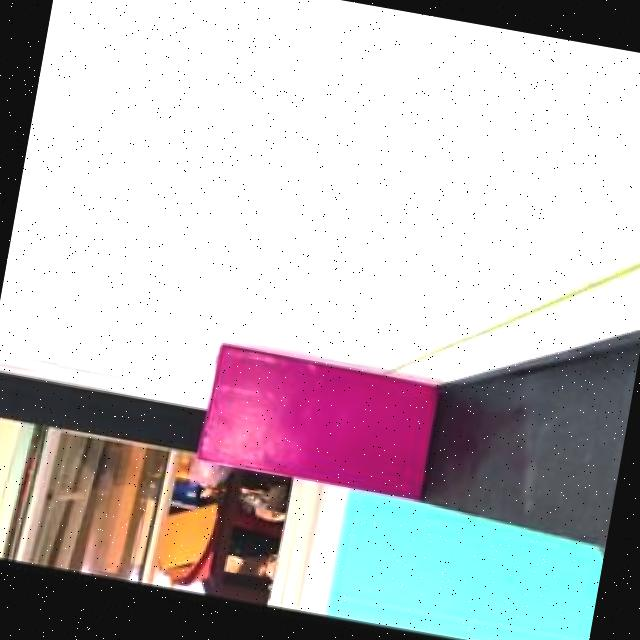xparking: (200, 342, 432, 498)
